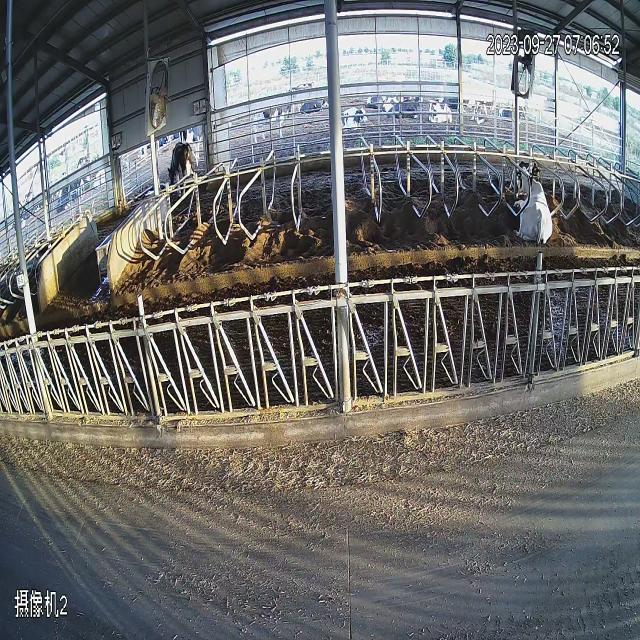lying down: (511, 165, 555, 245), (426, 92, 454, 132), (338, 106, 369, 141), (468, 94, 494, 129)
standing: (236, 79, 298, 161), (150, 135, 210, 211)
